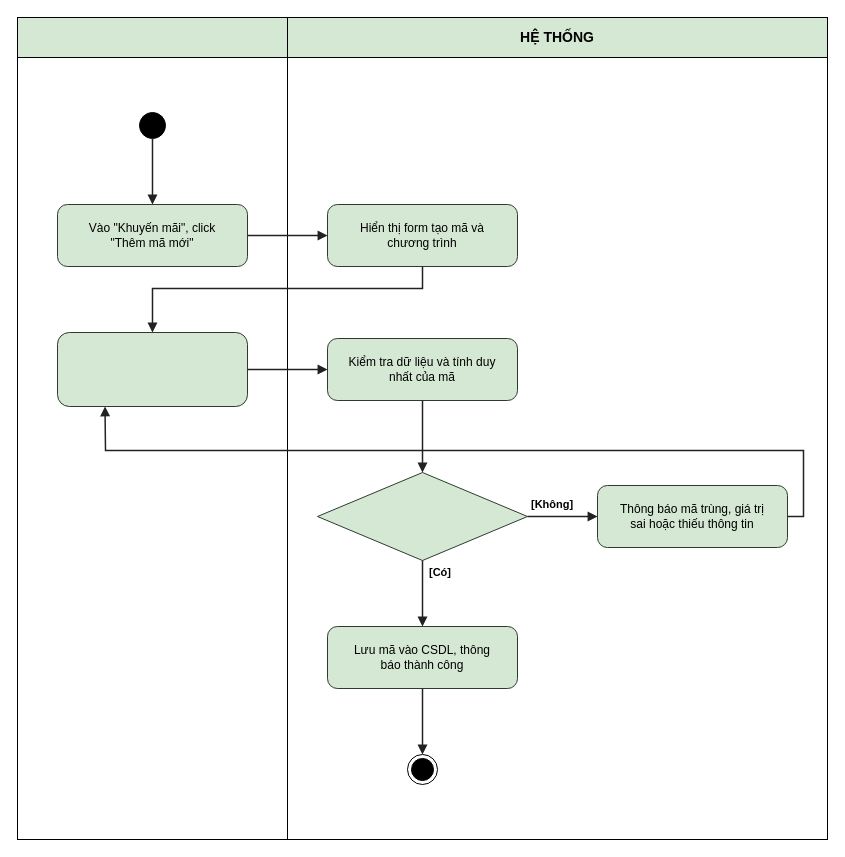
Some shapes in this 845 by 857 pixel diagram are drawn without their labels. The centre of each missing label's shape, as x and y in pixels:
Dữ liệu hợp lệ?: point 422,516
Nhập loại giảm, giá trị, đơn tối thiểu, phạm vi, thời gian, click "Lưu": point 152,369
QUẢN TRỊ VIÊN: point 152,37
